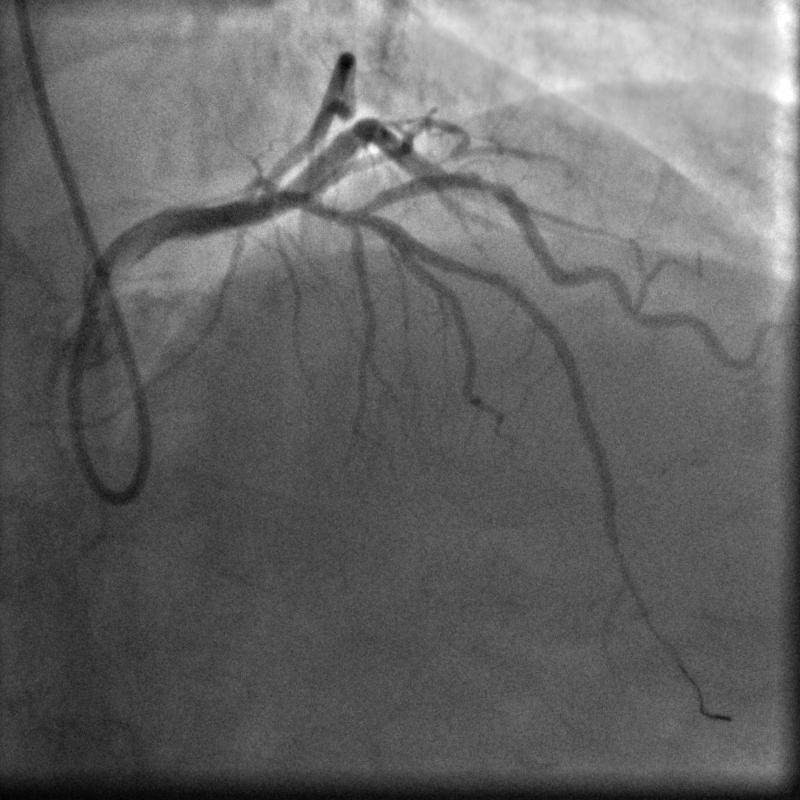Stenosis: (467, 165, 516, 208)
